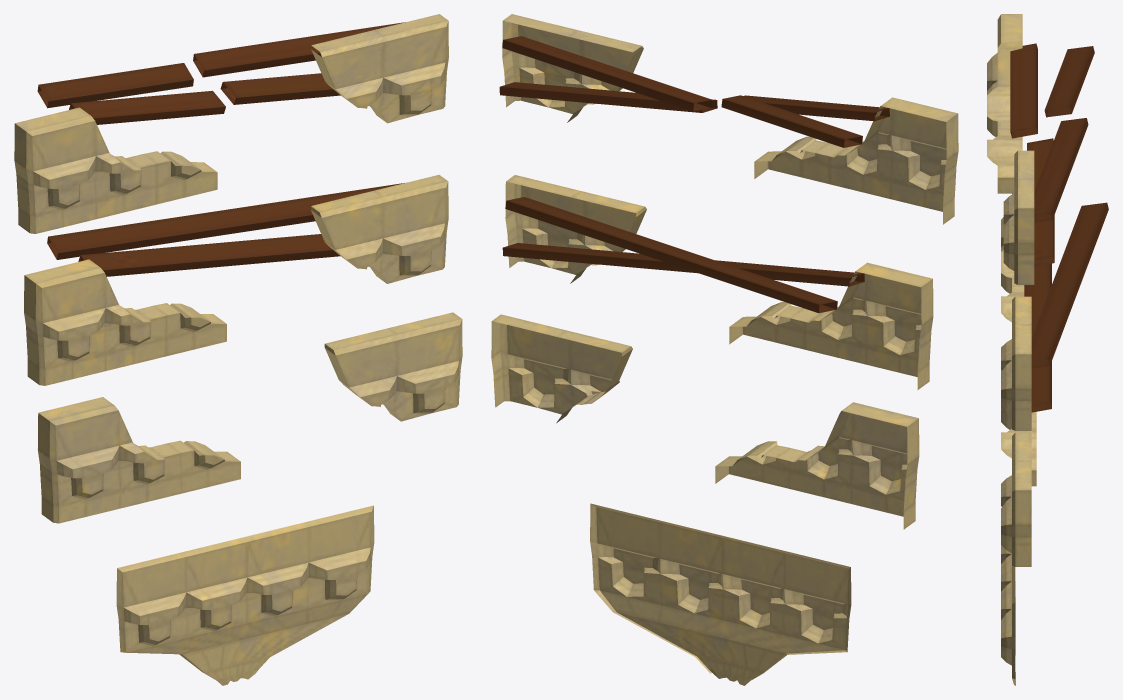
Rendered from TilePlataforma.fbx.
3 renders of one model, left to right at view 1: azimuth 30°, elevation 25°; view 2: azimuth 150°, elevation 25°; view 3: azimuth 270°, elevation 25°, orthographic. The views are drawn at different scales.
Visible parts, largest first — view 1: Cube.004; view 2: Cube.004; view 3: Cube.004.
Part boxes in pixels (left/top/right/bottom): Cube.004: left=14, top=14, right=462, bottom=685; Cube.004: left=491, top=14, right=958, bottom=685; Cube.004: left=987, top=14, right=1108, bottom=685.
Size of the model in its own units: 1.41 by 1.84 by 0.3627.
